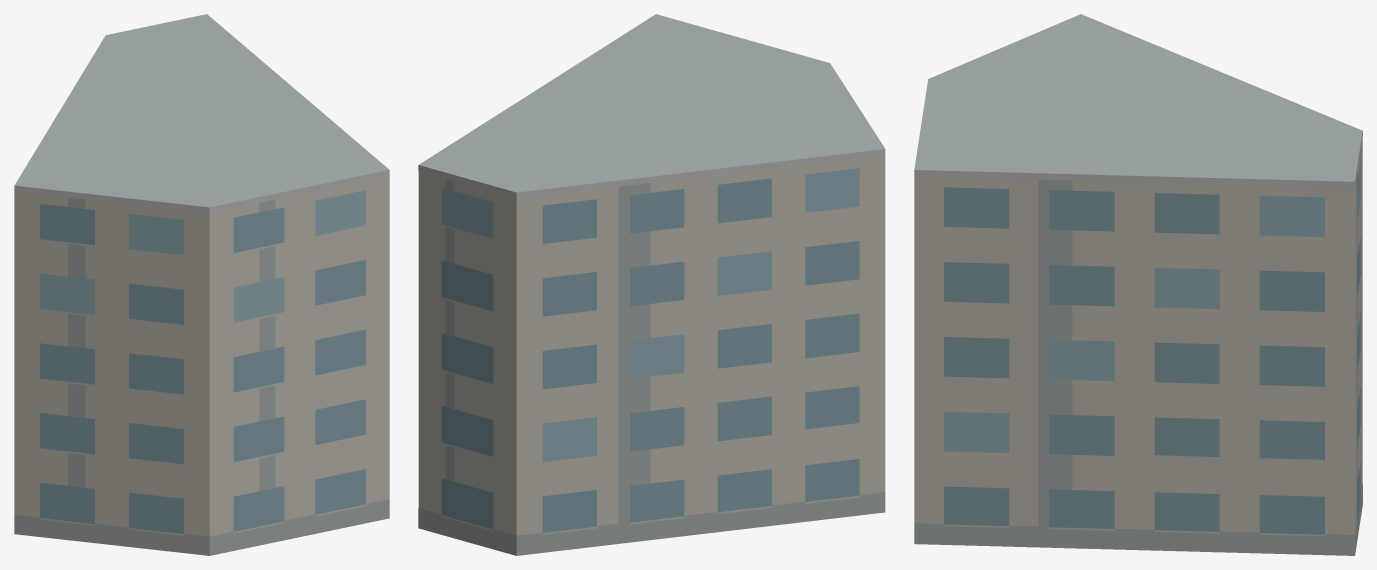
File: survey-upis-32760572.glb
3 views of the same model, side by side, from view 1: azimuth 30°, elevation 25°; view 2: azimuth 150°, elevation 25°; view 3: azimuth 270°, elevation 25° (orthographic). The views are drawn at different scales.
Visible parts, largest first — view 1: survey-upis-32760572.tmp; view 2: survey-upis-32760572.tmp; view 3: survey-upis-32760572.tmp.
Part boxes in pixels (bbox=[...]): survey-upis-32760572.tmp: bbox=[14, 14, 389, 555]; survey-upis-32760572.tmp: bbox=[418, 14, 885, 555]; survey-upis-32760572.tmp: bbox=[914, 14, 1362, 555].
Bounding box in the file's own units: 14.07 × 14.62 × 15.89.
